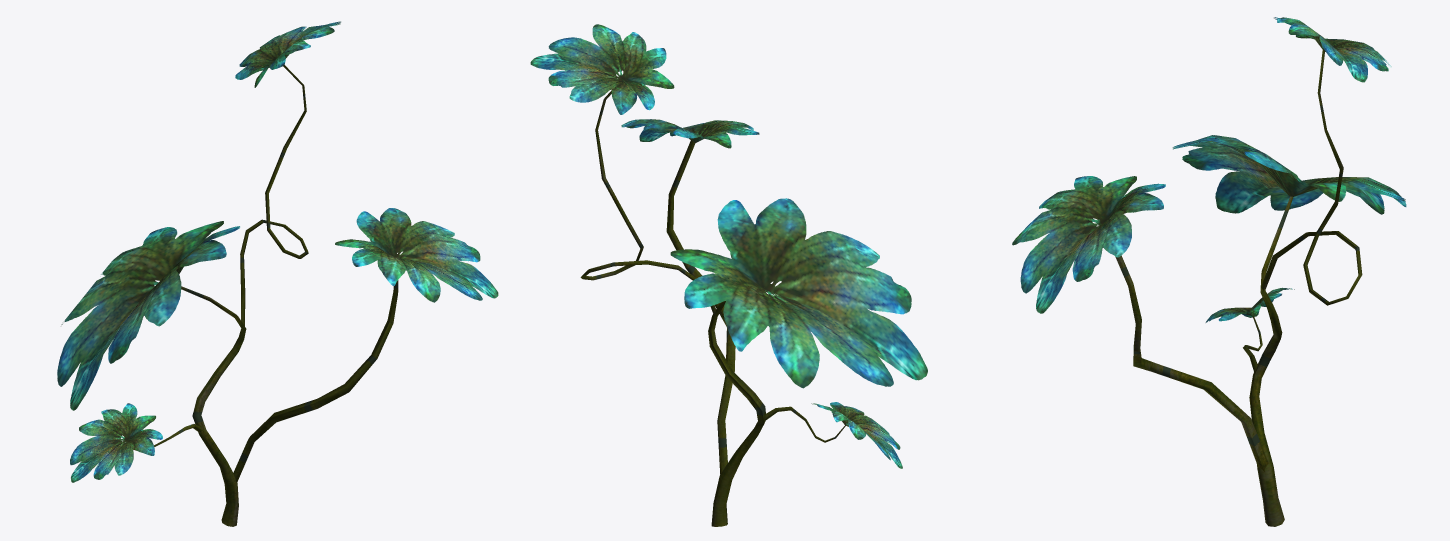
Rendered from S_Plant_Blue008.FBX.
3 renders of one model, left to right at view 1: azimuth 30°, elevation 25°; view 2: azimuth 150°, elevation 25°; view 3: azimuth 270°, elevation 25°, orthographic. The views are drawn at different scales.
Parts seen in each view (by area): view 1: S_Plant_Blue008; view 2: S_Plant_Blue008; view 3: S_Plant_Blue008.
Part boxes in pixels (left/top/right/bottom): S_Plant_Blue008: left=57, top=21, right=498, bottom=526; S_Plant_Blue008: left=530, top=24, right=927, bottom=526; S_Plant_Blue008: left=1012, top=17, right=1406, bottom=526.
Size of the model in its own units: 105 by 92.39 by 125.
